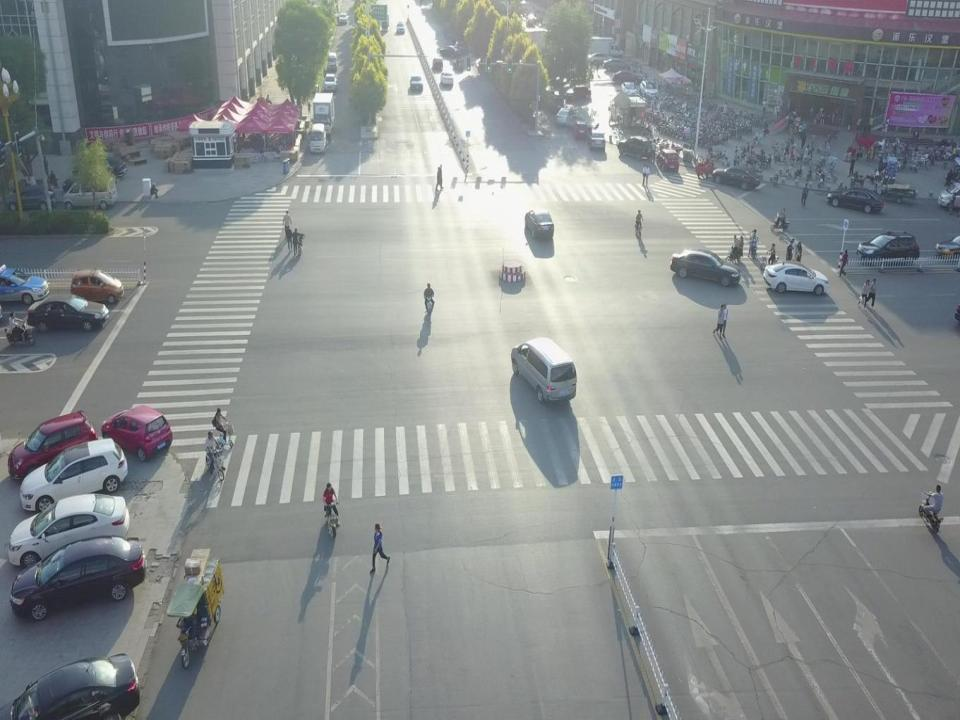car: (11, 536, 147, 612), (9, 496, 127, 572), (19, 435, 129, 514), (10, 654, 138, 720), (8, 410, 98, 478), (100, 406, 173, 460), (26, 297, 110, 333), (668, 248, 740, 285), (858, 232, 920, 266), (0, 264, 49, 305), (70, 270, 125, 305), (762, 264, 826, 292), (825, 186, 884, 214), (711, 163, 763, 190), (523, 208, 553, 240), (616, 135, 652, 161), (935, 234, 960, 264), (656, 148, 680, 173), (554, 107, 579, 126), (602, 58, 633, 72), (586, 130, 606, 151), (639, 79, 658, 100), (612, 70, 645, 82), (570, 120, 588, 140), (621, 81, 638, 101), (586, 52, 613, 64), (407, 74, 424, 93), (322, 72, 337, 92), (438, 46, 460, 57), (431, 56, 444, 72), (441, 70, 453, 86), (395, 22, 405, 34), (338, 13, 347, 24)
truck: (311, 92, 335, 136), (587, 38, 624, 60)
van: (509, 336, 577, 404), (61, 180, 118, 212), (71, 154, 127, 184), (6, 186, 56, 214), (938, 179, 959, 211), (308, 124, 328, 151), (327, 52, 337, 72)
